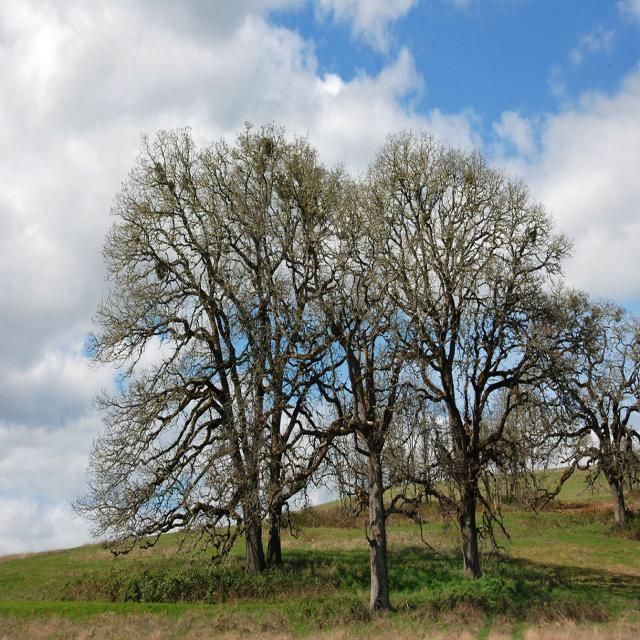Quercus garryana: (71, 116, 354, 573), (349, 135, 582, 593), (262, 256, 440, 616), (518, 291, 640, 539)
